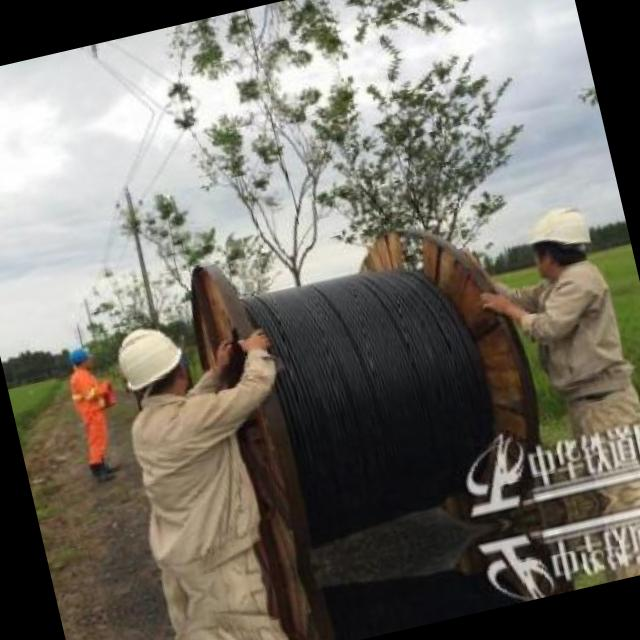helmet: (101, 311, 201, 413), (509, 192, 602, 289), (66, 342, 96, 373)
